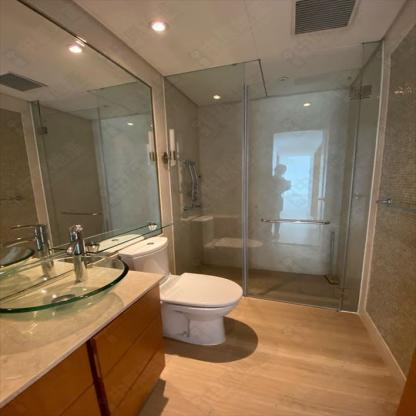Faucet: (12, 220, 87, 251)
Toilet: (114, 236, 242, 345)
Toilet Sink: (0, 255, 124, 321)
Water Cubicle: (164, 40, 380, 314)
